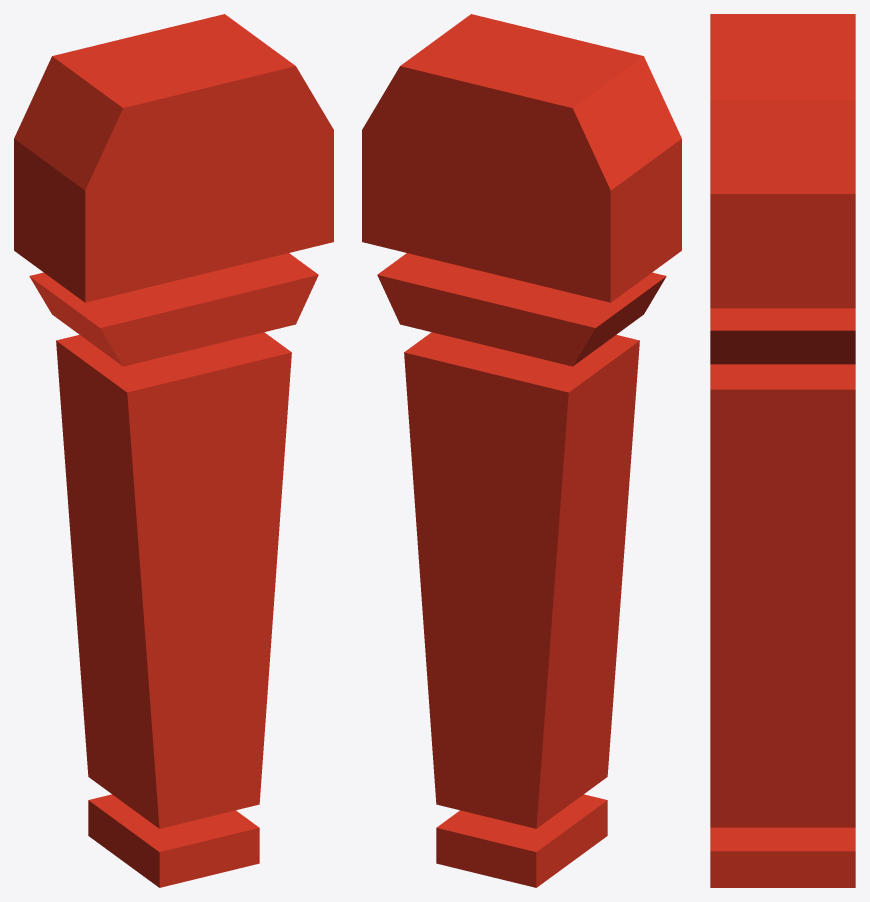
The model's file is Icon_Microphone_02.fbx.
The picture shows the model from 3 angles, left to right: view 1: azimuth 30°, elevation 25°; view 2: azimuth 150°, elevation 25°; view 3: azimuth 270°, elevation 25°; orthographic projection. The views are drawn at different scales.
Parts seen in each view (by area): view 1: Icon_Microphone_02; view 2: Icon_Microphone_02; view 3: Icon_Microphone_02.
Boxes of the visible parts, x1=… form: Icon_Microphone_02: x1=14, y1=14, x2=333, y2=887; Icon_Microphone_02: x1=362, y1=14, x2=681, y2=887; Icon_Microphone_02: x1=710, y1=14, x2=855, y2=887.
Bounding box in the file's own units: 24.35 × 73.75 × 12.06.
